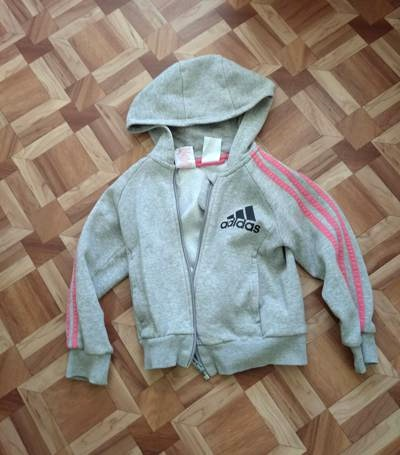Hoodie: (35, 40, 400, 395)
